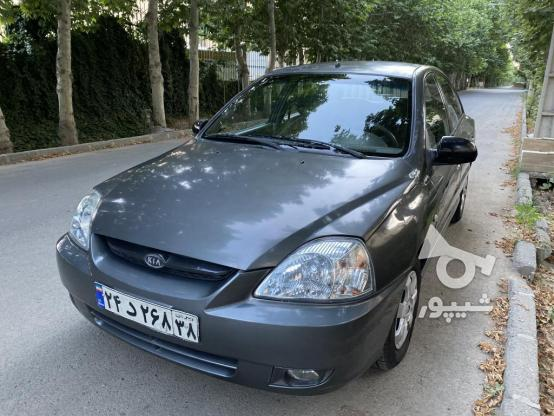car: (93, 282, 201, 345)
